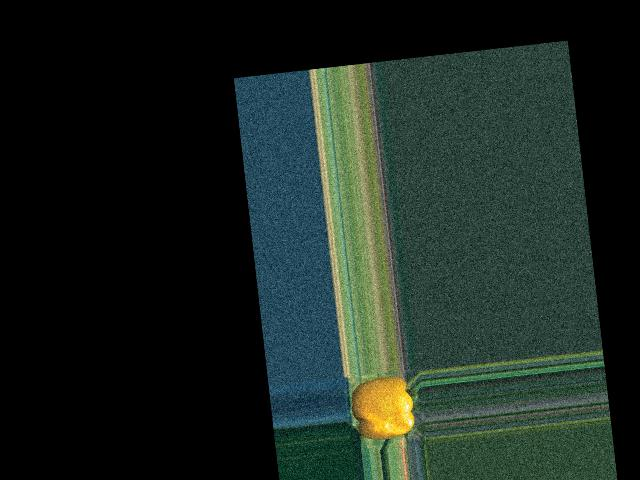bell_pepper: (347, 370, 422, 447)
